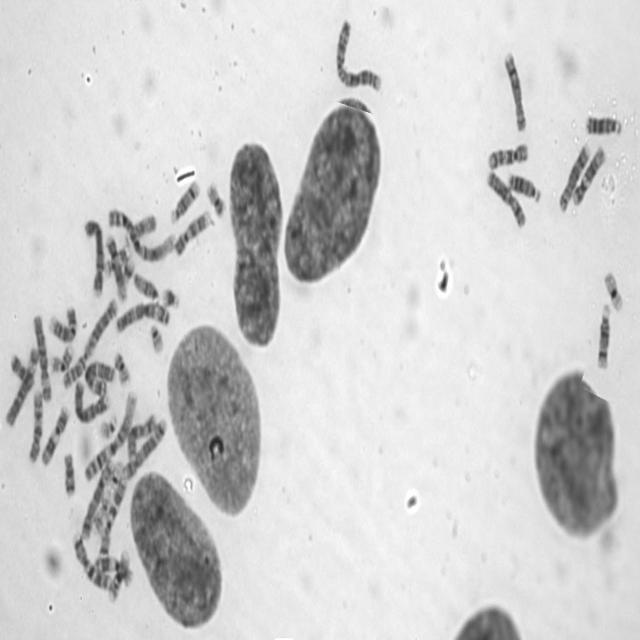A1: (82, 386, 139, 485), (105, 203, 176, 264)
A2: (60, 296, 120, 390), (333, 16, 384, 94)
A3: (113, 298, 172, 336), (82, 356, 116, 399)
B4: (82, 214, 105, 298), (72, 375, 111, 424)
B5: (79, 454, 117, 542), (120, 413, 168, 480)
C10: (485, 138, 530, 172), (26, 385, 44, 465)
C11: (39, 402, 70, 468), (92, 554, 136, 589)
C12: (570, 141, 606, 207), (104, 230, 128, 303)
C6: (2, 341, 40, 428), (30, 308, 53, 403)
C7: (70, 529, 115, 591), (95, 475, 128, 558)
C8: (557, 139, 592, 214), (501, 46, 528, 133)
C9: (173, 205, 212, 258), (47, 301, 78, 344)
D13: (505, 168, 543, 204), (583, 110, 623, 138)
D14: (168, 176, 201, 225), (594, 299, 612, 372)
D15: (124, 213, 158, 248), (131, 267, 160, 302)
E16: (106, 545, 131, 605), (48, 341, 74, 375)
E17: (90, 486, 113, 535), (102, 240, 129, 278)
E18: (8, 350, 34, 388), (61, 446, 77, 498)
F19: (602, 266, 625, 313), (104, 457, 124, 500)
F20: (205, 178, 227, 219), (111, 347, 131, 386)
G21: (160, 283, 181, 309), (120, 255, 136, 283)
G22: (97, 409, 119, 442), (147, 319, 166, 356)
X: (484, 166, 527, 230), (125, 412, 159, 468)
